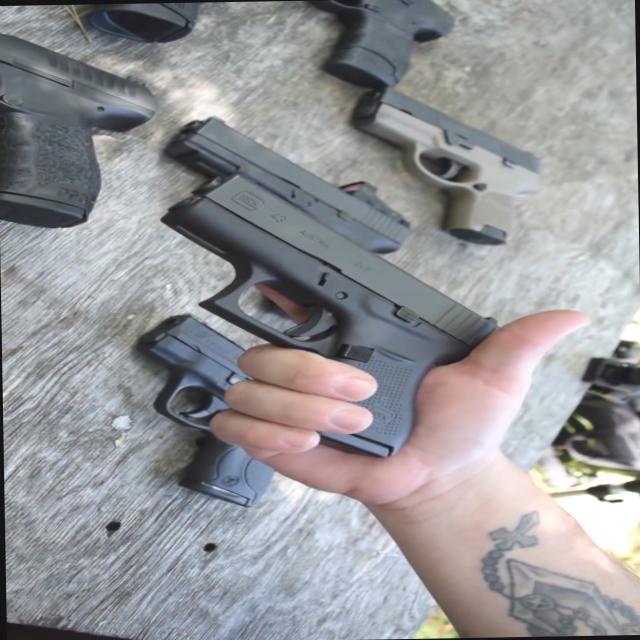handgun: (179, 174, 484, 482), (106, 295, 337, 567), (154, 111, 418, 318), (342, 90, 553, 254), (0, 34, 150, 232)
